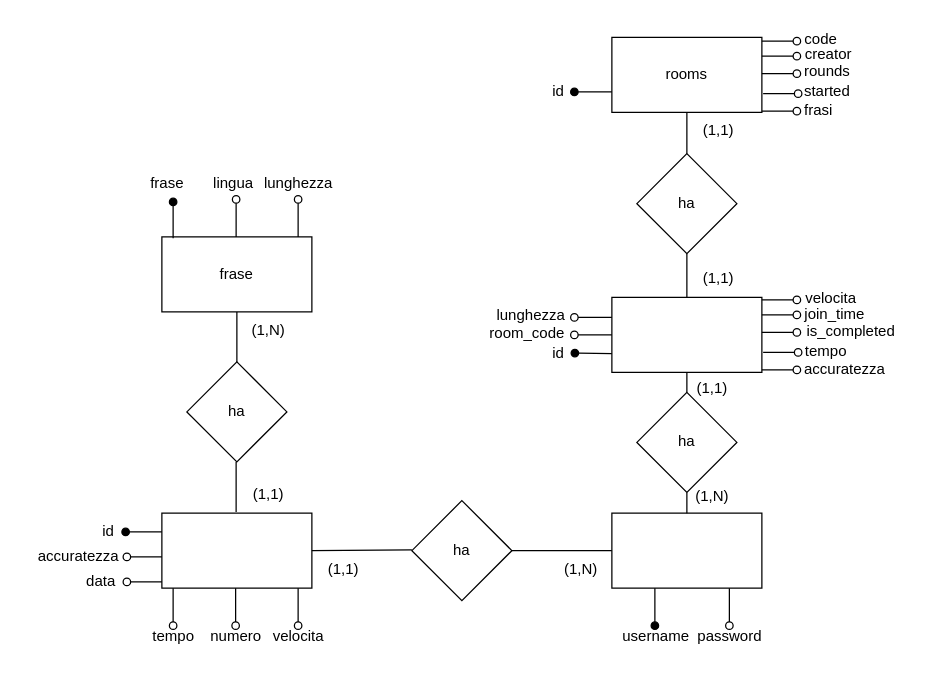
This 928x678 diagram has some shape labels left out. Each missing label, with the centre of its shape:
"room_players" goes at (x=686, y=334).
"turno_storico" goes at (x=236, y=550).
"utente" goes at (x=686, y=550).
